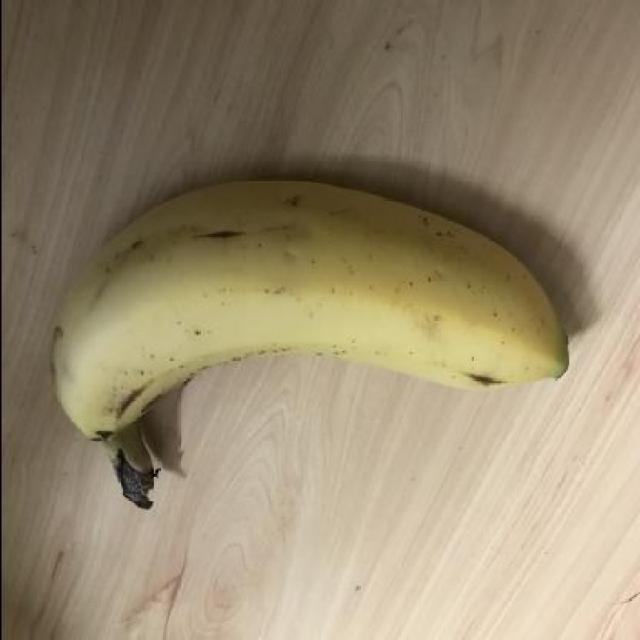Banana: (55, 170, 578, 515)
